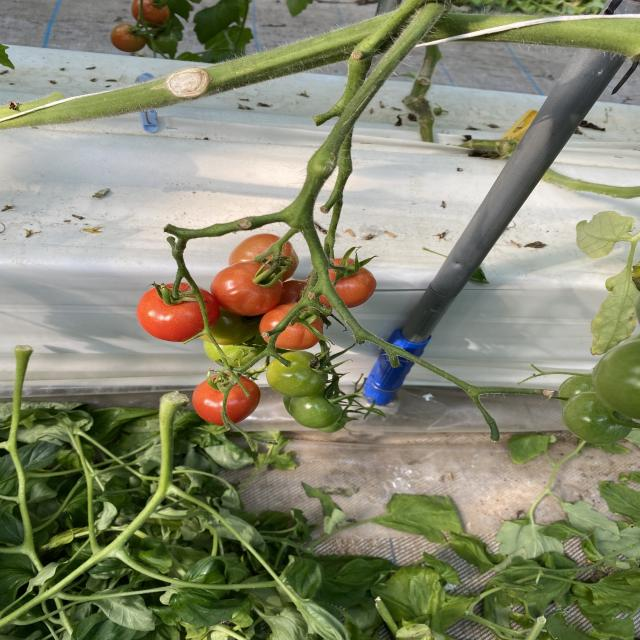c-half-riped: (228, 233, 300, 282), (259, 302, 324, 350), (110, 24, 147, 53)
c-riped: (137, 282, 220, 343), (209, 261, 283, 315), (192, 372, 262, 426), (306, 258, 376, 310), (130, 0, 170, 28), (276, 280, 309, 307)
c-unriped: (594, 338, 640, 420), (561, 393, 633, 444), (265, 350, 329, 398), (198, 308, 271, 346), (203, 332, 274, 368), (289, 389, 342, 428), (558, 375, 596, 407), (145, 27, 178, 54), (314, 410, 348, 434)
